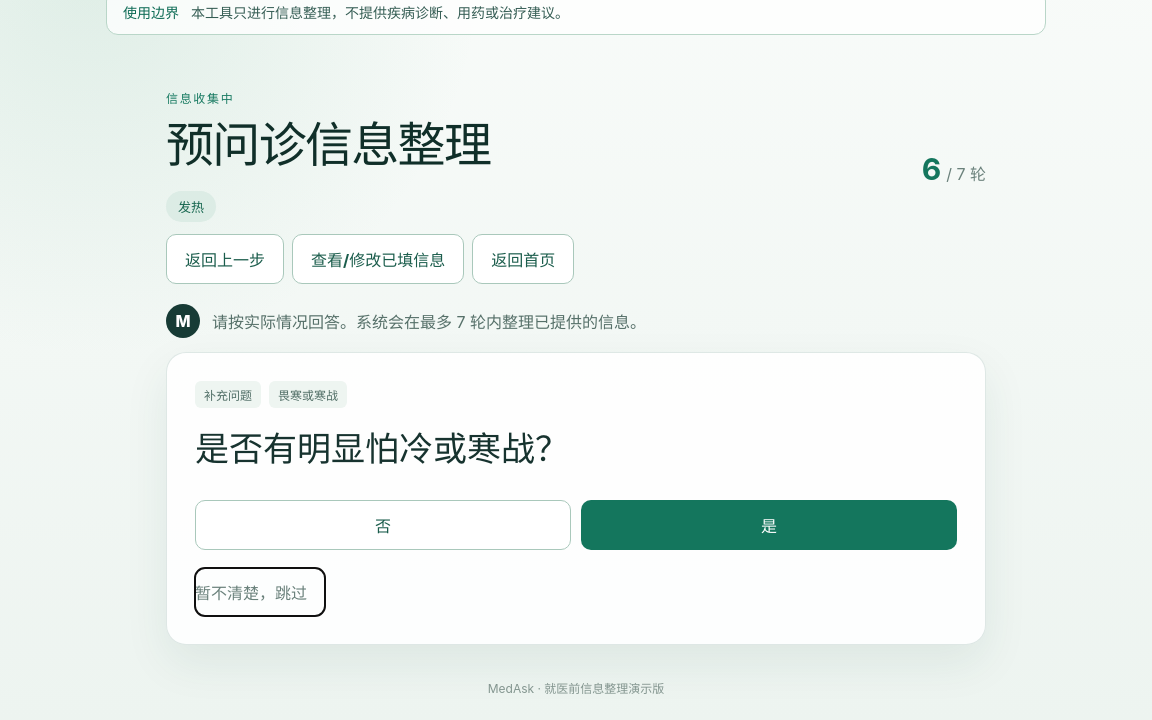
Test: 确定性修改已填信息 › 页面可修改体温并在完成后的摘要展示新值
Earlier steps of the test are not shown.
(page scrolled)
Click the button "暂不清楚，跳过" at (260, 592), box [195,568,325,616]
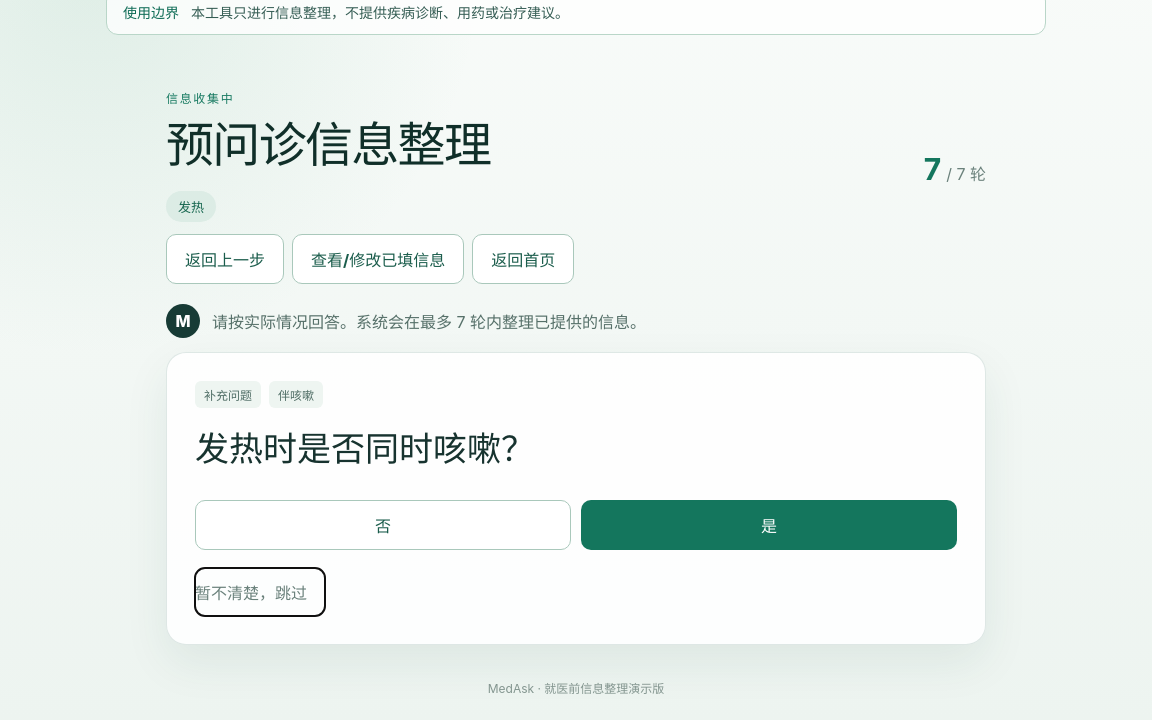
Click the button "暂不清楚，跳过" at (260, 592), box [195,568,325,616]
(page scrolled)
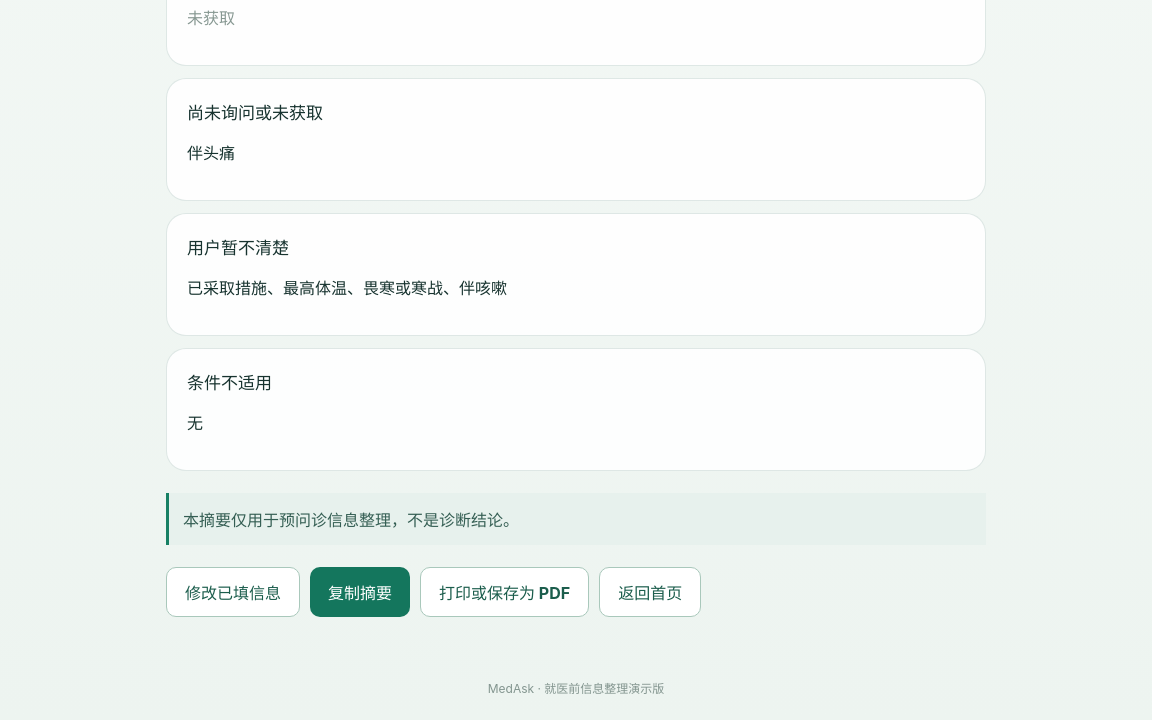
Check: the button "修改已填信息" is shown, box [166,567,300,617]
